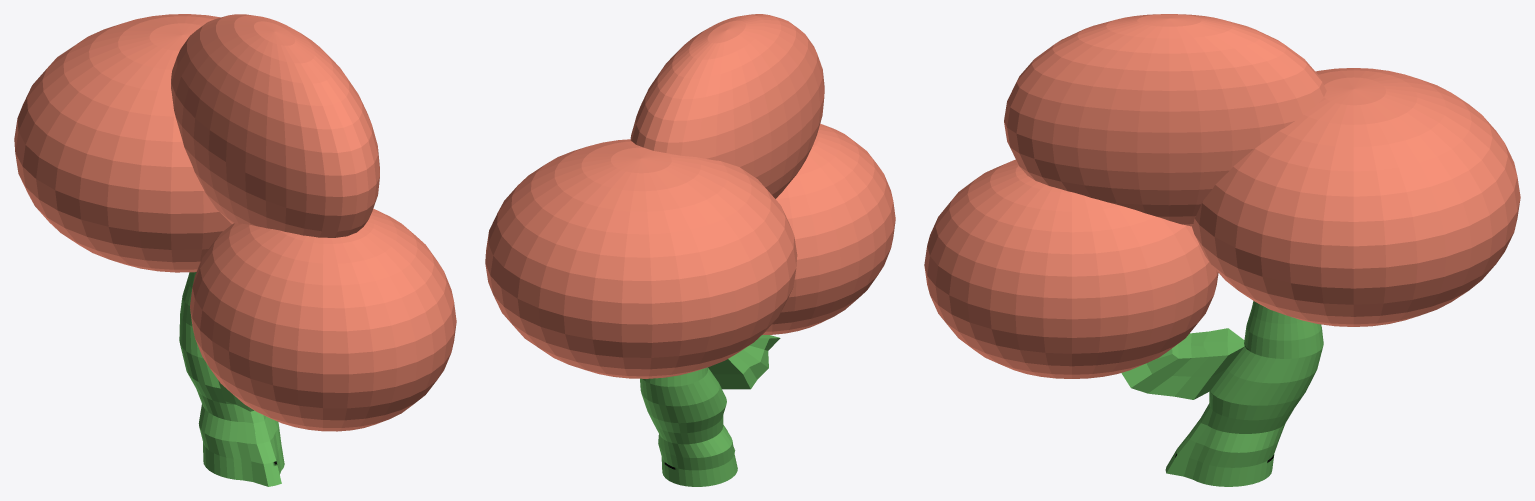
Rendered from Big FlowerT.fbx.
The picture shows the model from 3 angles, left to right: view 1: azimuth 30°, elevation 25°; view 2: azimuth 150°, elevation 25°; view 3: azimuth 270°, elevation 25°; orthographic projection. The views are drawn at different scales.
Parts seen in each view (by area): view 1: Cylinder; view 2: Cylinder; view 3: Cylinder.
Part boxes in pixels (<box>): Cylinder: <box>14,14,456,486</box>; Cylinder: <box>485,14,895,486</box>; Cylinder: <box>924,14,1520,486</box>.
Bounding box in the file's own units: 32.21 × 47.55 × 56.84.
